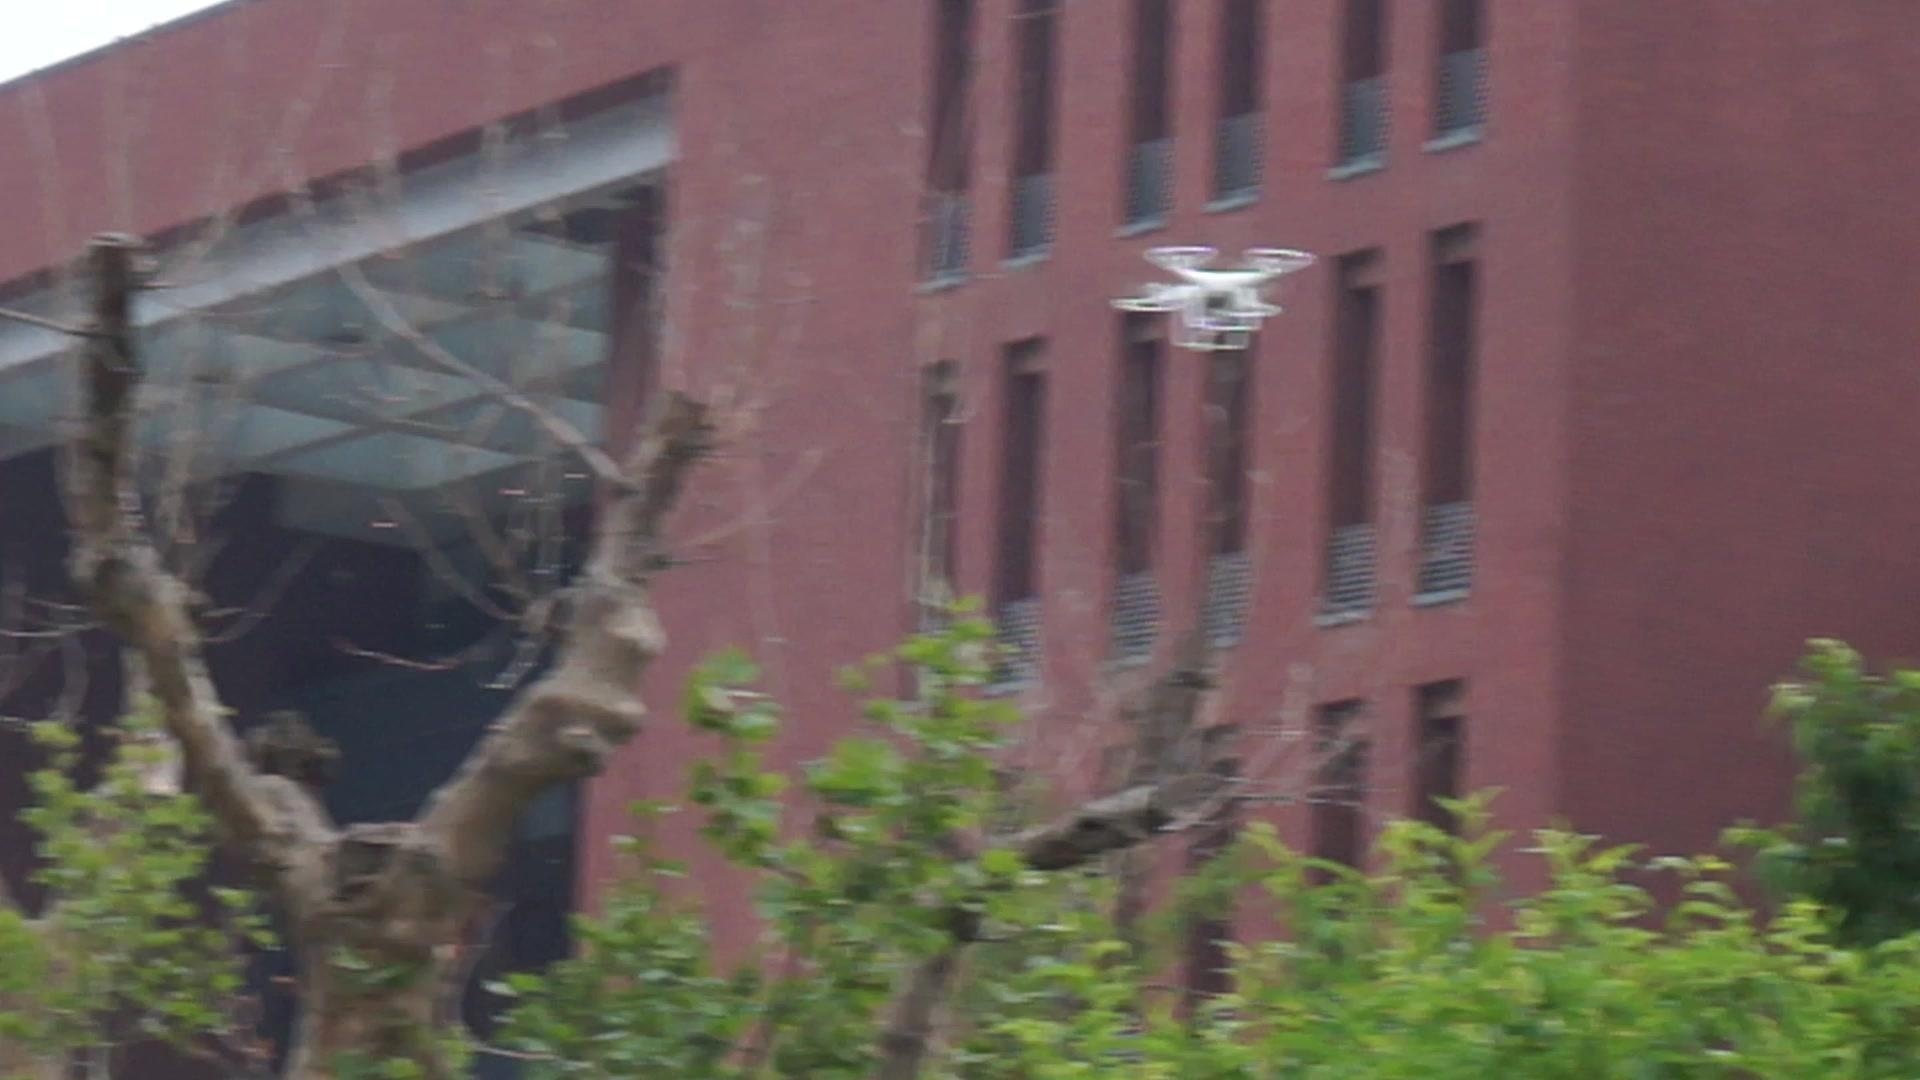UAV: (1109, 245, 1319, 353)
